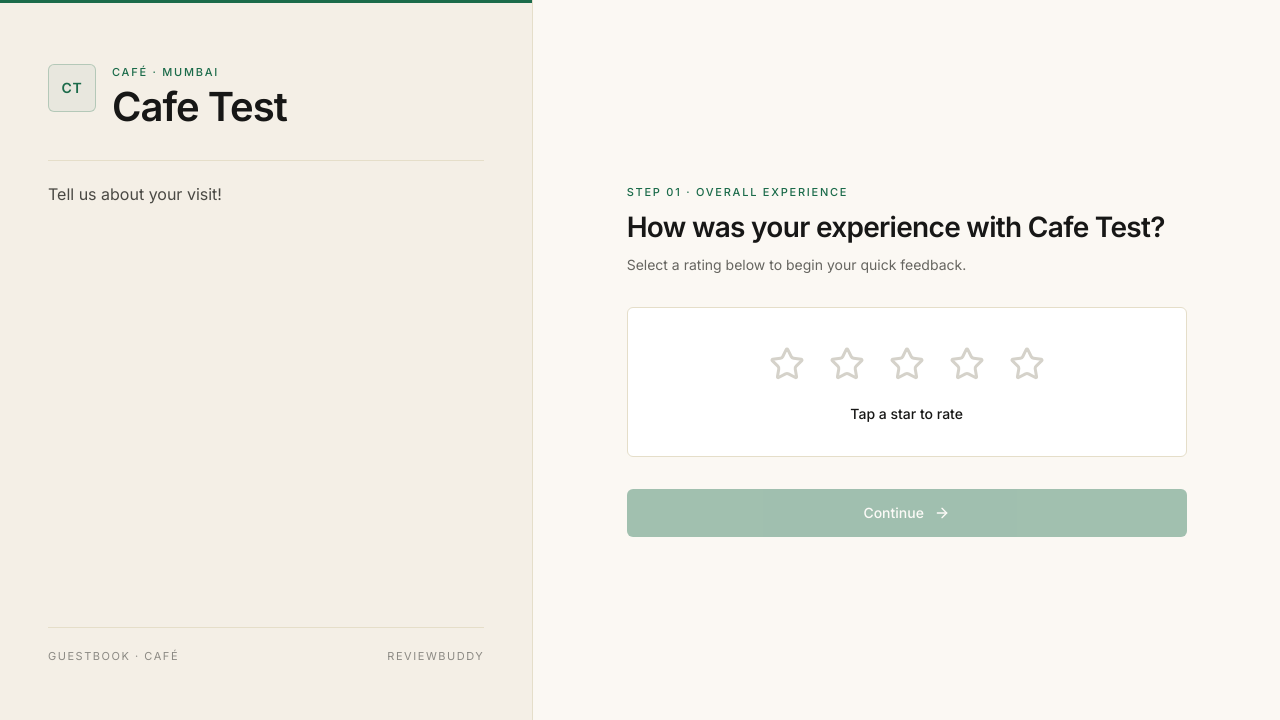
Test case: ReviewBuddy Frontend V1 Regression Tests › 5. PublicReviewExperience validates required questions, generates draft, copies with fallback, honors autoCopyPrompt, and exposes Google link for 1-star ratings
# Choose 1-star rating
Click the radio button named "1 star" at (787, 364), box [763,340,811,388]
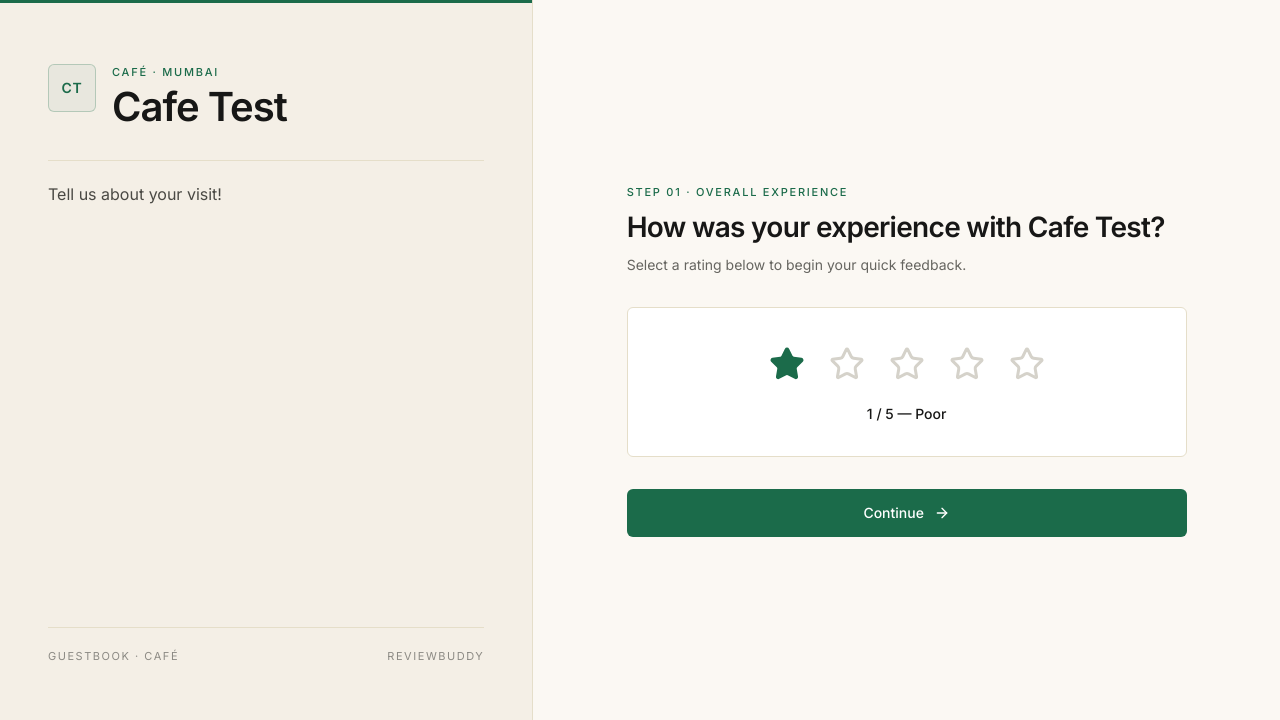
Click the button "Continue" at (907, 512), box [627,488,1187,536]
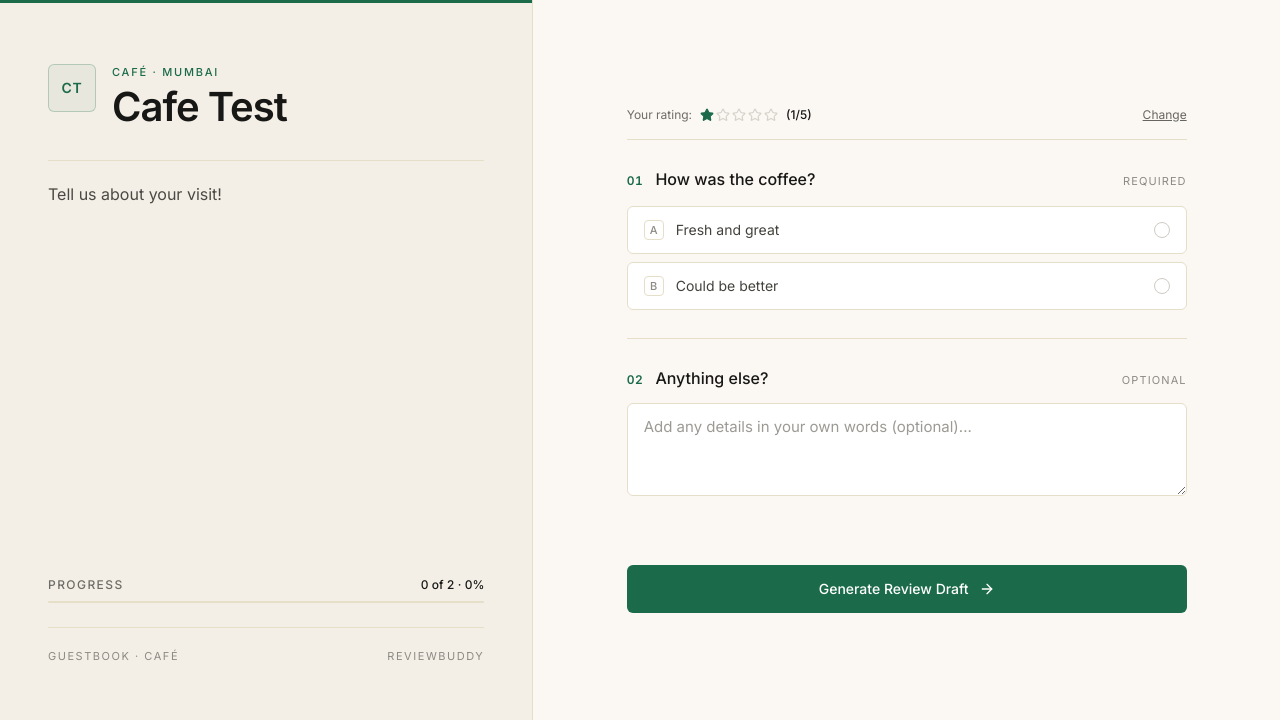
# Submit without answering required question q1
Click the button "Generate Review Draft" at (907, 589), box [627,565,1187,613]
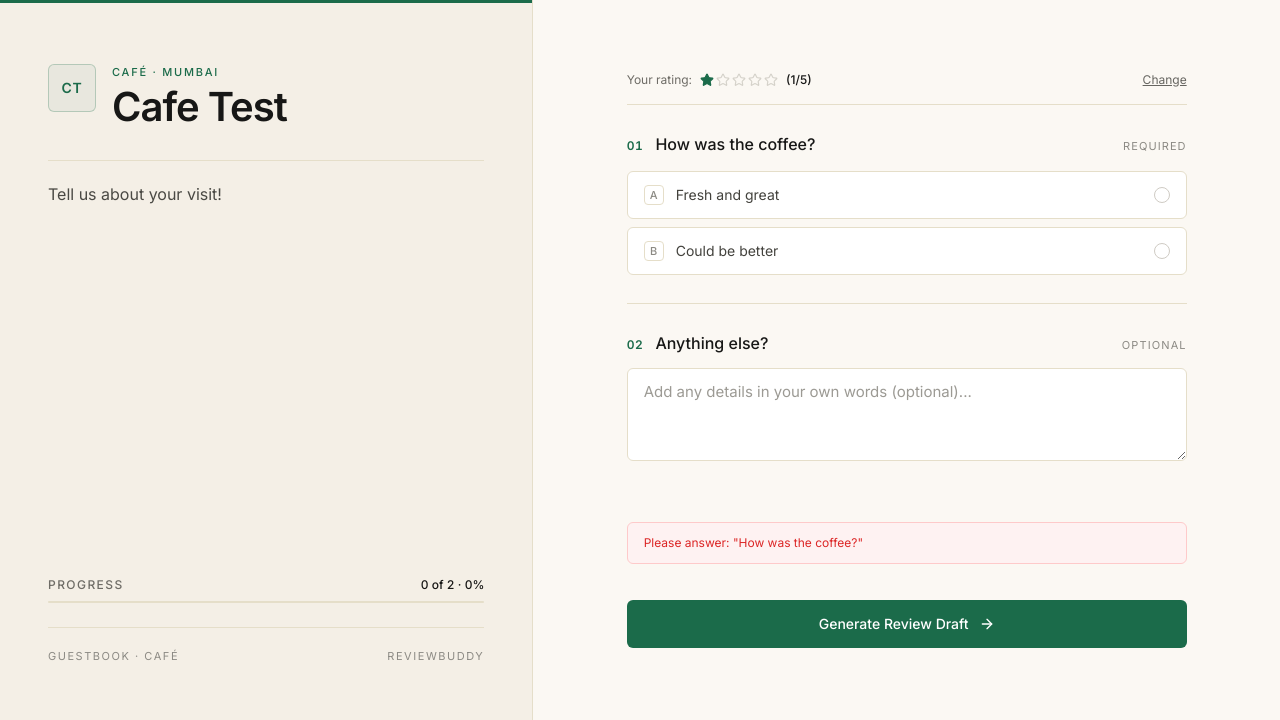
Now the message shows "How was the coffee?", box [644,535,863,550]
# Select answer and submit
Click the button "A Fresh and great" at (727, 195), box [627,171,1187,219]
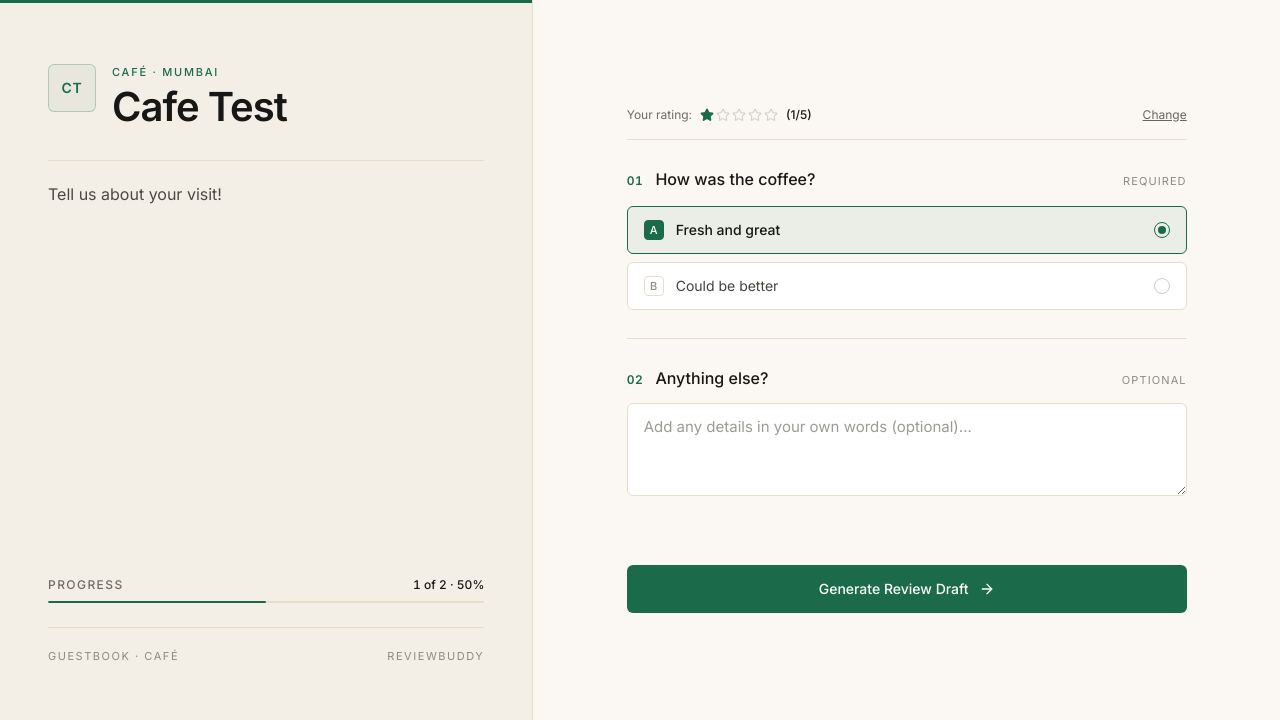
Click the button "Generate Review Draft" at (907, 589), box [627,565,1187,613]
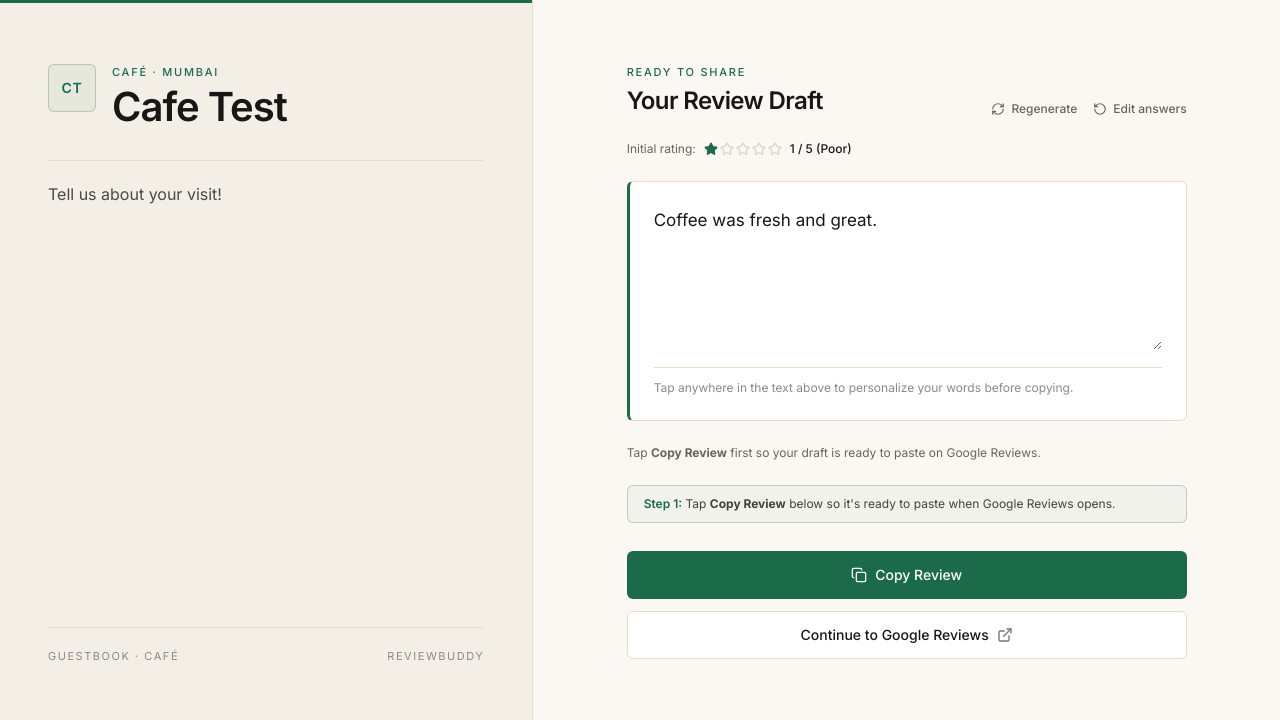
Now the text box named "Editable review draft" holds "Coffee was fresh and great.", box [654,206,1162,350]
Now the element with test id "autocopy-prompt" is shown, box [627,485,1187,523]
Click the button "Copy Review" at (907, 575), box [627,551,1187,599]
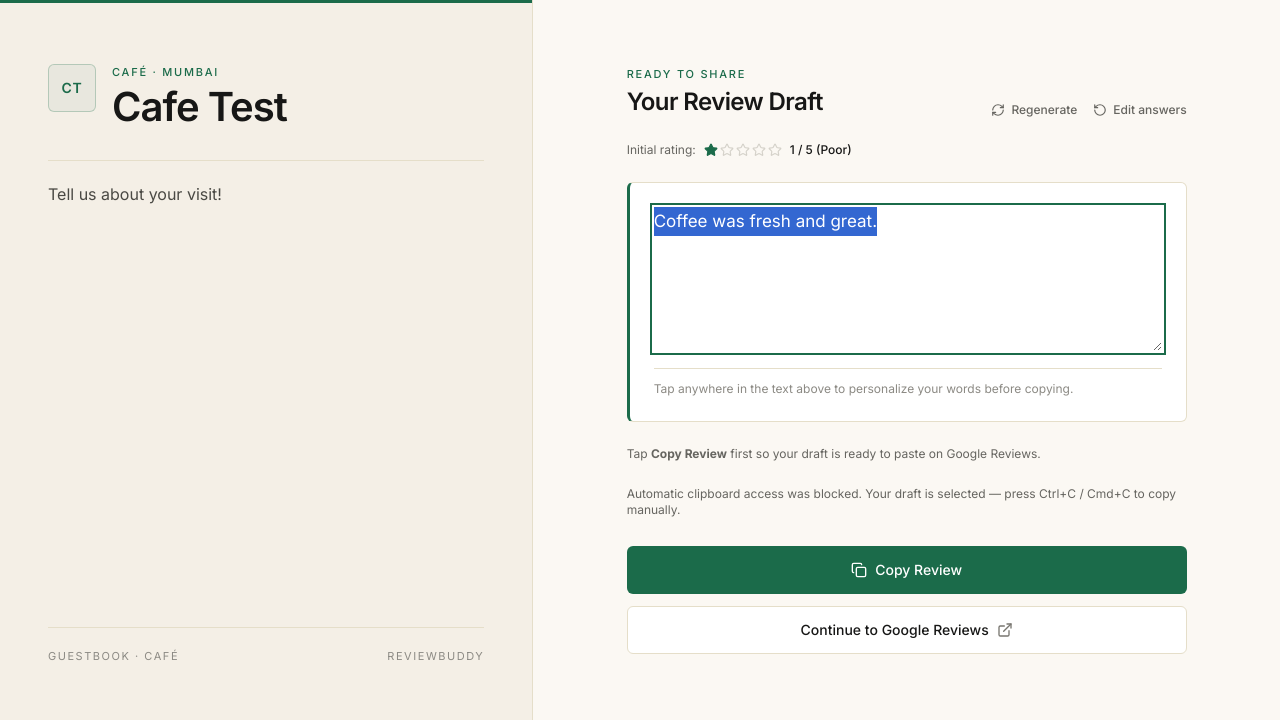
Now the text "press Ctrl+C" is shown, box [627,486,1176,518]
